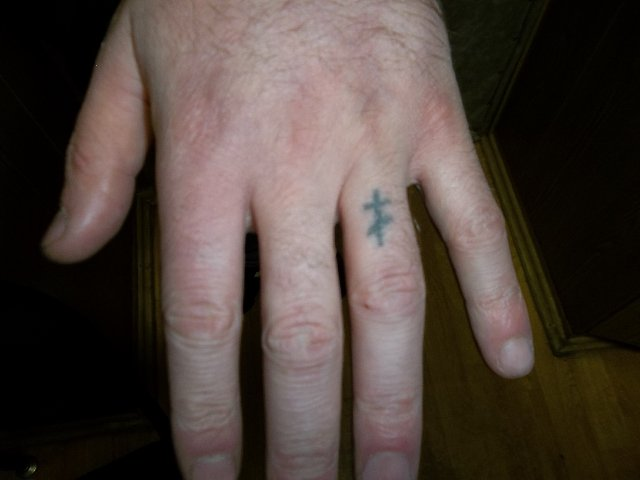tatu9_krest: (357, 183, 399, 247)
